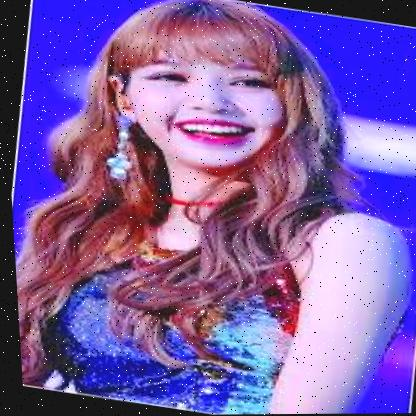person: (92, 0, 320, 177)
